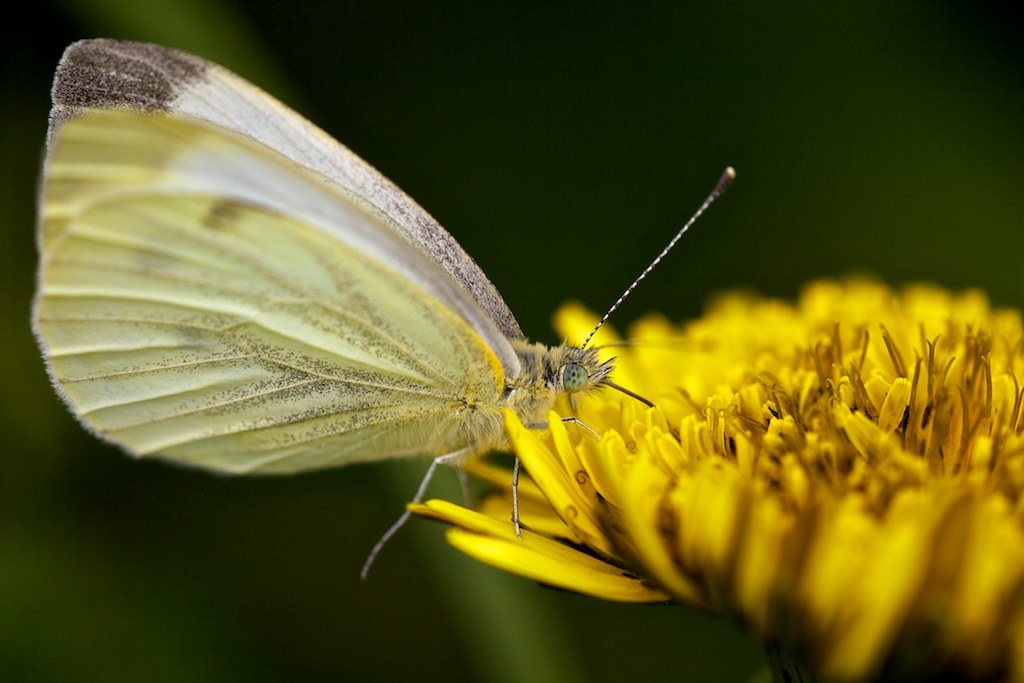Butterfly: (34, 38, 580, 553)
